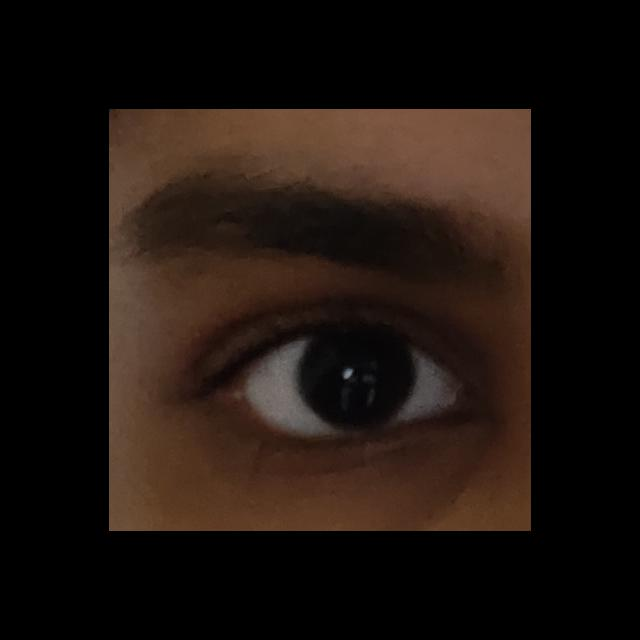eye: (243, 325, 454, 435)
iris: (296, 328, 416, 431)
